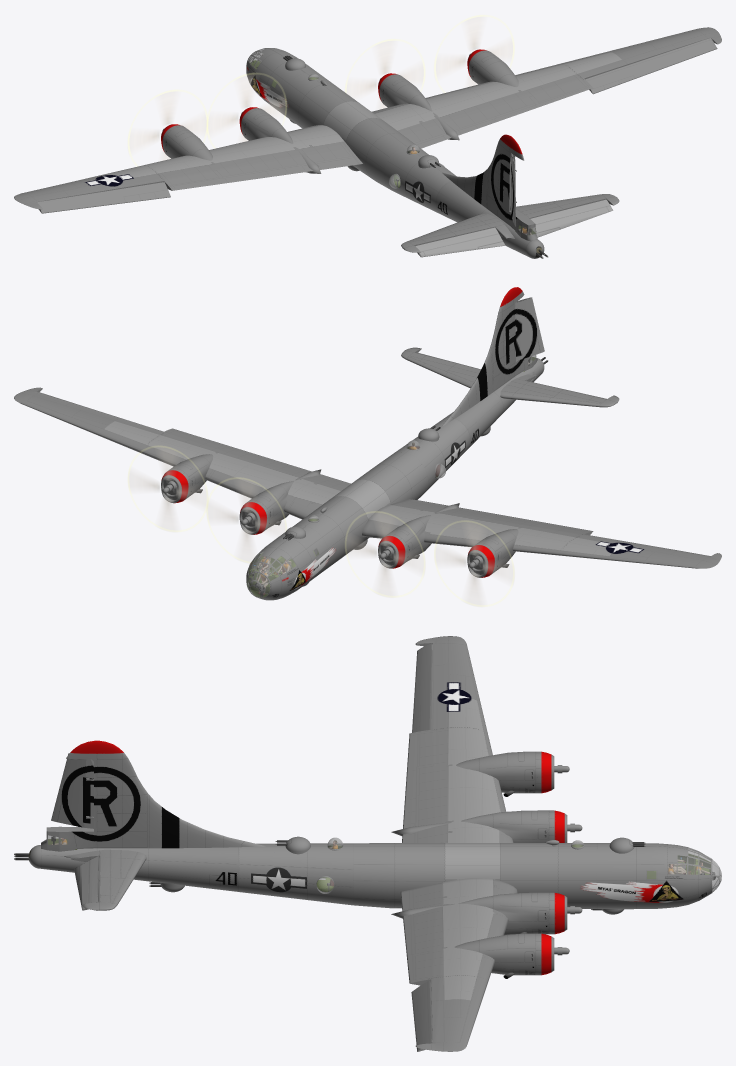
The model's file is b29_flyt_6bg.glb.
3 views of the same model, one above another, from view 1: azimuth 30°, elevation 25°; view 2: azimuth 150°, elevation 25°; view 3: azimuth 270°, elevation 25° (orthographic). The views are drawn at different scales.
Parts seen in each view (by area): view 1: WingR, WingL, fuse2, tail_vert, tail_elevator, tail_horz, fuse3, fuse1, wingR_aileron, wingL_aileron, fuse4, prop2 (+8 smaller); view 2: WingR, WingL, fuse2, tail_vert, tail_horz, fuse1, fuse3, prop3, prop1, prop2, prop4, engine3 (+6 smaller); view 3: WingL, fuse2, WingR, tail_vert, fuse1, fuse3, fuse4, engine4, engine2, engine1, engine3, tail_rudder (+6 smaller).
Part boxes in pixels (x1,y1,x2,y2): WingR: (371, 27, 721, 148); WingL: (14, 125, 362, 209); fuse2: (282, 72, 418, 189); tail_vert: (442, 134, 537, 241); tail_elevator: (415, 199, 612, 257); tail_horz: (401, 194, 619, 252); fuse3: (383, 145, 456, 214); fuse1: (246, 48, 319, 117); wingR_aileron: (585, 38, 717, 94); wingL_aileron: (37, 182, 170, 213); fuse4: (436, 181, 538, 256); prop2: (434, 15, 514, 92); WingR: (14, 387, 350, 519); WingL: (362, 499, 721, 568); fuse2: (292, 452, 427, 570); tail_vert: (442, 287, 537, 426); tail_horz: (401, 347, 619, 407); fuse1: (246, 525, 329, 600); fuse3: (393, 417, 470, 492); prop3: (345, 511, 425, 597); prop1: (434, 520, 514, 606); prop2: (128, 446, 207, 531); prop4: (207, 477, 286, 563); engine3: (378, 503, 459, 568); WingL: (402, 636, 513, 842); fuse2: (353, 843, 597, 908); WingR: (400, 878, 517, 1051); tail_vert: (41, 740, 265, 851); fuse1: (597, 843, 712, 909); fuse3: (238, 843, 353, 905); fuse4: (40, 845, 238, 891); engine4: (391, 892, 567, 935); engine2: (454, 933, 554, 978); engine1: (456, 751, 554, 796); engine3: (391, 810, 567, 842); tail_rudder: (51, 753, 93, 828).
Size of the model in its own units: 43.07 by 8.73 by 31.
Materials: 35 (24 with a texture image).
